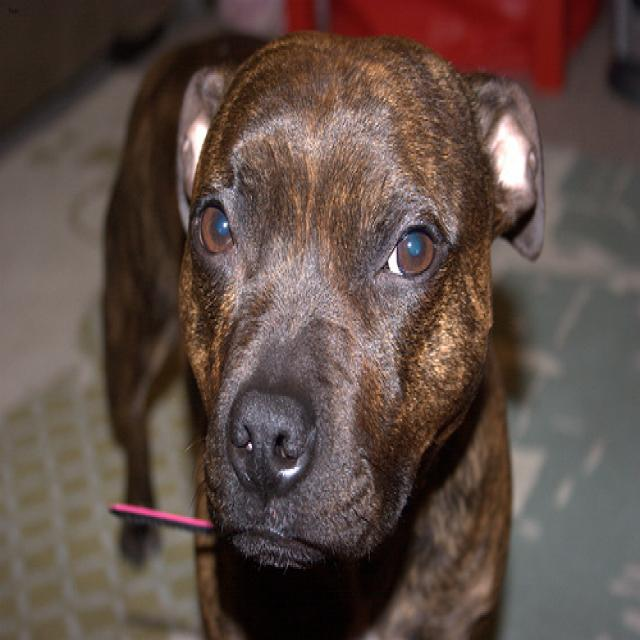dog-staffordshire_bull_terrier: (90, 13, 550, 636)
